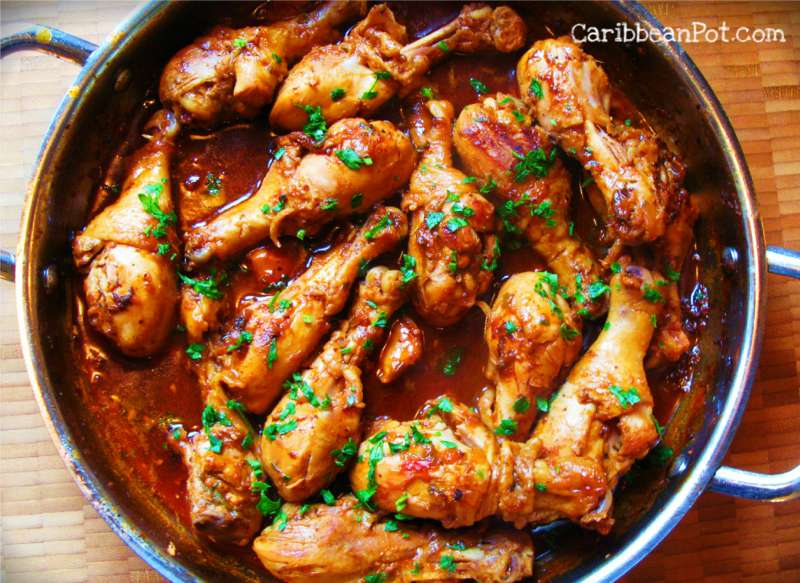chicken_curry: (104, 36, 717, 571)
